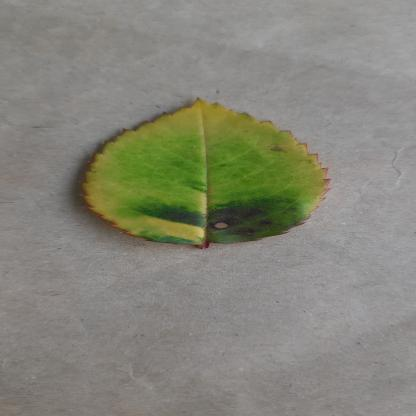downy-mildew: (82, 97, 330, 245)
